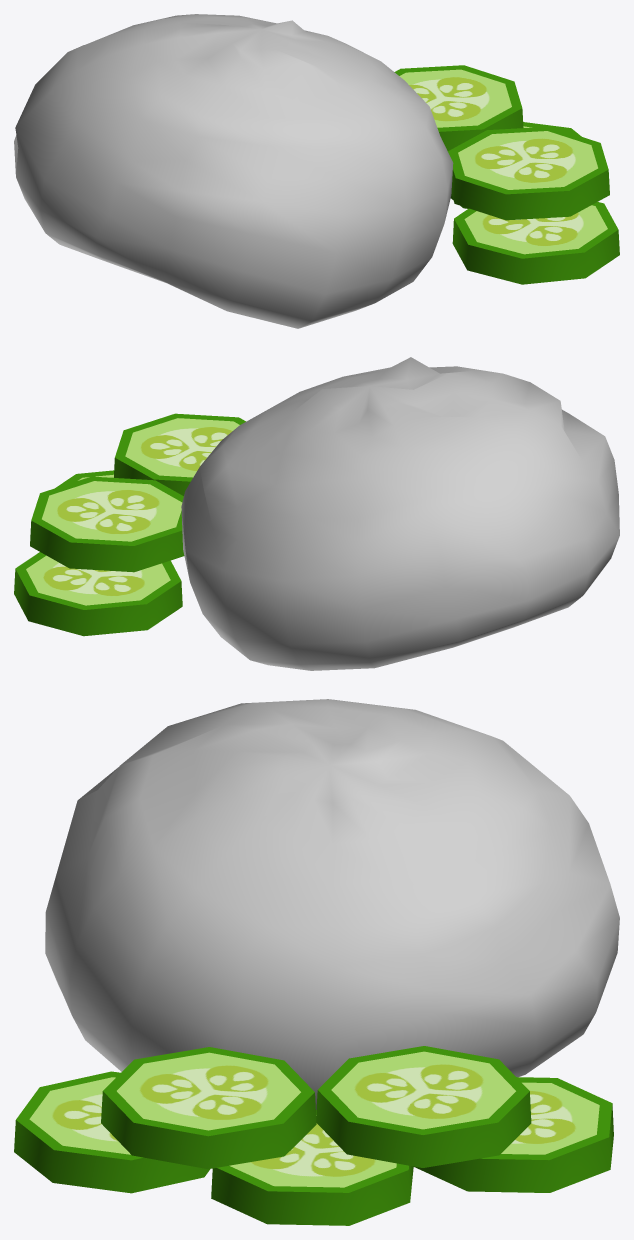
File: SM_Rice-Cucumber-Plate.fbx
3 views of the same model, one above another, from view 1: azimuth 30°, elevation 25°; view 2: azimuth 150°, elevation 25°; view 3: azimuth 270°, elevation 25° (orthographic). The views are drawn at different scales.
Parts seen in each view (by area): view 1: Rice; view 2: Rice; view 3: Rice.
Boxes of the visible parts, <box> form: Rice: <box>14,14,619,328</box>; Rice: <box>14,357,619,670</box>; Rice: <box>14,699,619,1225</box>.
Size of the model in its own units: 99.94 by 42.42 by 76.73.
